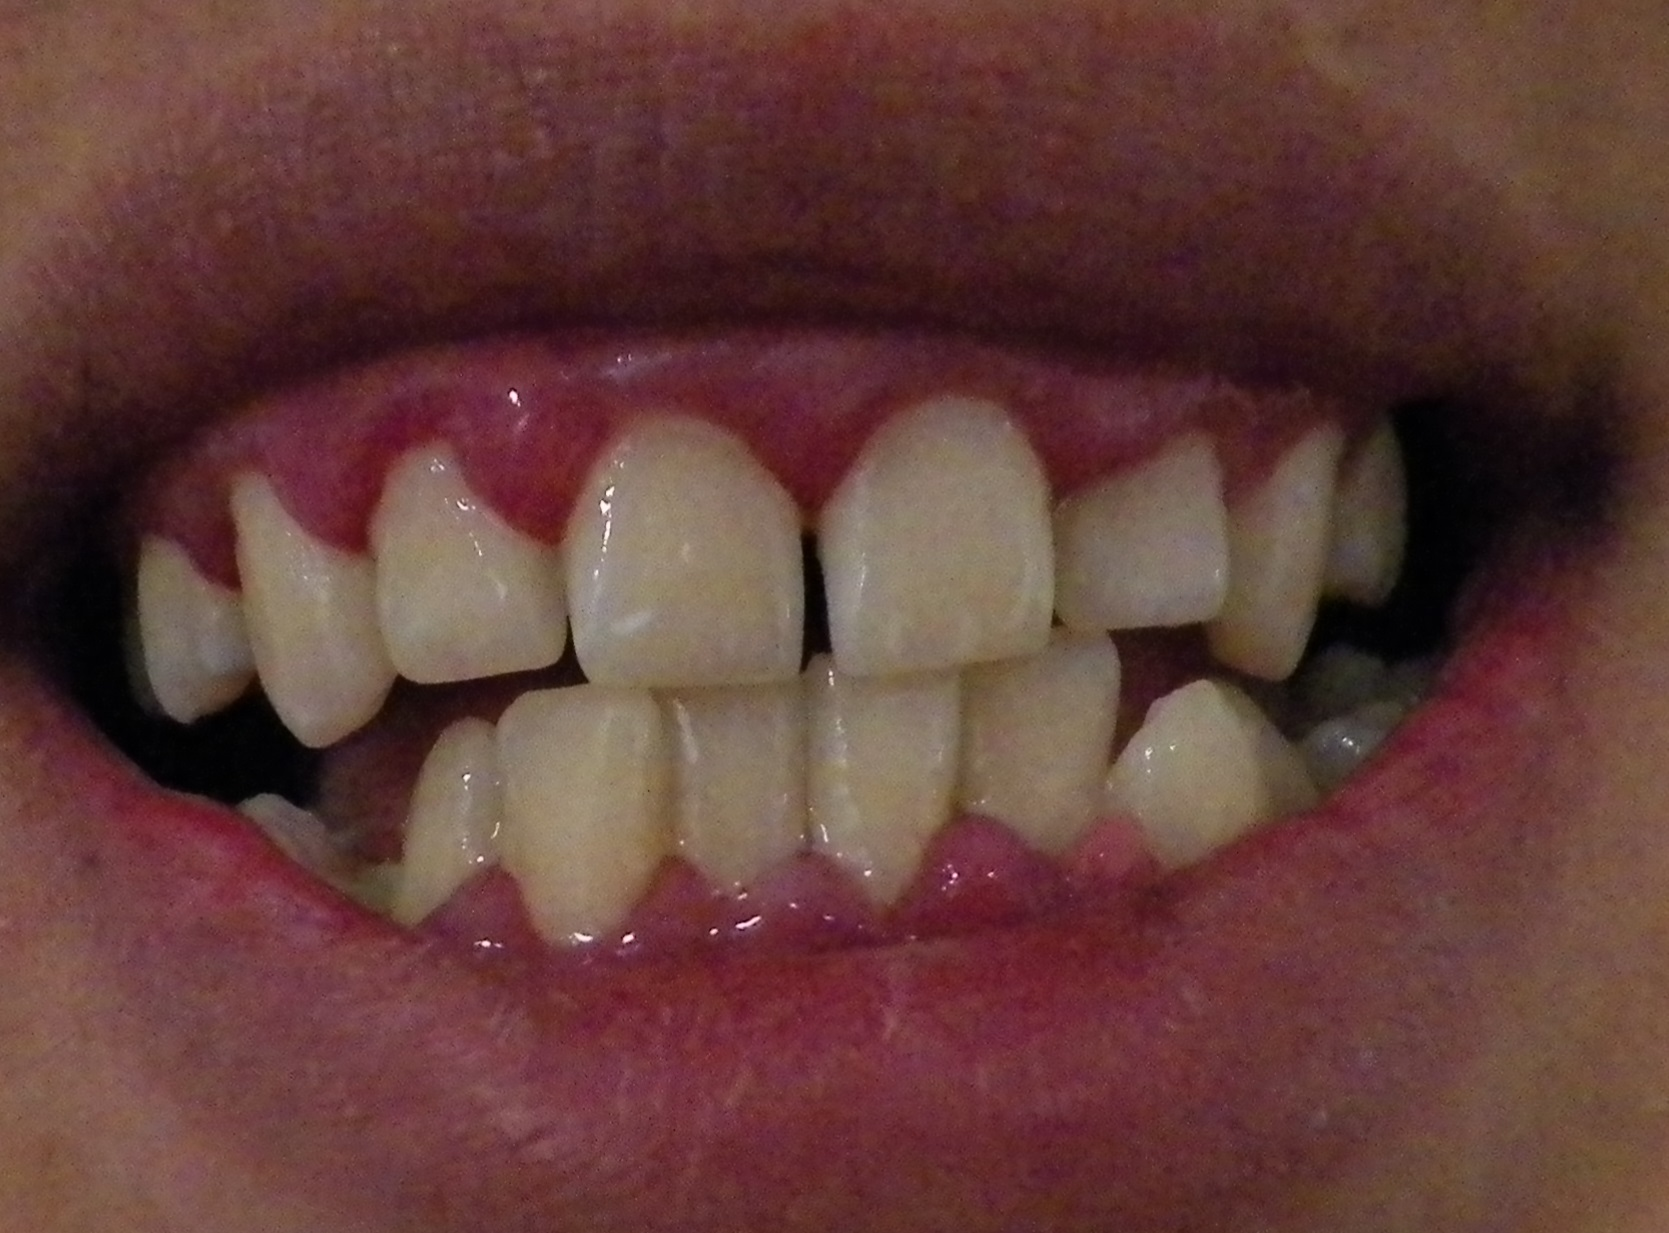boca: (111, 413, 1441, 926)
